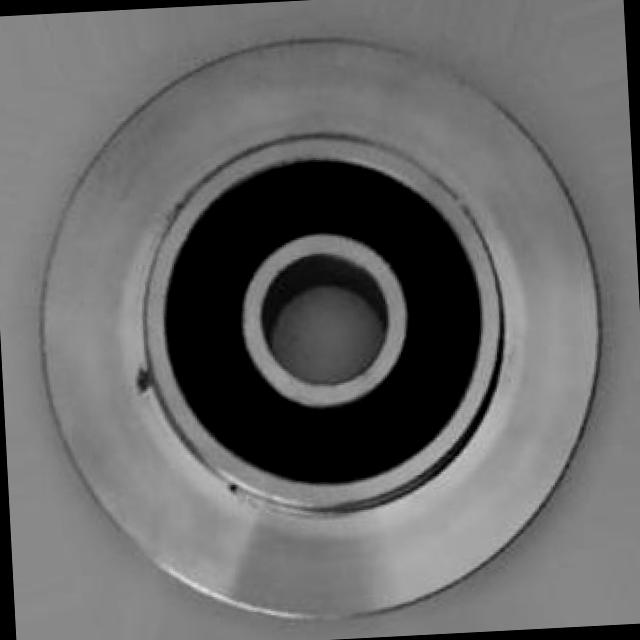Defect: (122, 358, 160, 401)
